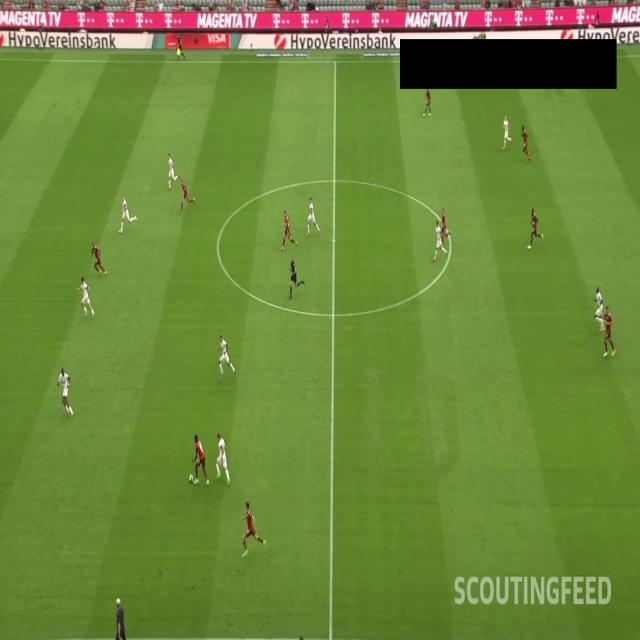ball: (187, 468, 194, 484)
player: (243, 498, 264, 552), (215, 432, 234, 482), (195, 433, 212, 488), (119, 190, 139, 233), (88, 237, 107, 282), (592, 288, 608, 333), (218, 335, 235, 375), (60, 369, 72, 422), (282, 208, 296, 253), (529, 203, 543, 248), (434, 221, 448, 263), (80, 276, 93, 321), (603, 310, 614, 357), (308, 194, 320, 236), (180, 177, 195, 208), (519, 122, 531, 155), (166, 151, 177, 186), (424, 84, 435, 117), (500, 118, 511, 151), (441, 204, 450, 244)
